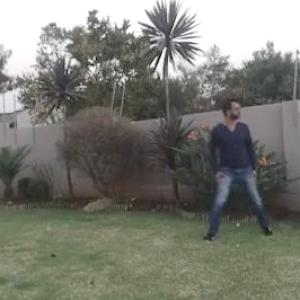follow: (211, 84, 257, 246)
